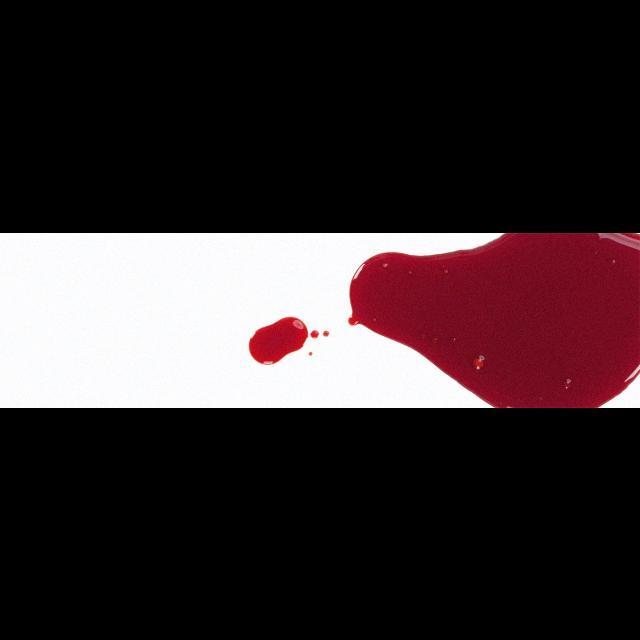blood: (348, 232, 639, 407), (248, 316, 308, 364), (310, 329, 319, 338), (322, 329, 330, 336)
